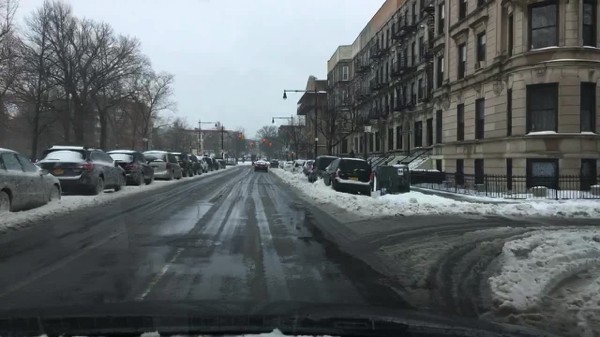car: (33, 146, 127, 193), (0, 148, 62, 214), (323, 158, 372, 197), (108, 149, 154, 186), (143, 149, 183, 179), (307, 156, 338, 182), (174, 153, 193, 176), (187, 155, 201, 175), (253, 158, 268, 172), (302, 159, 315, 175), (198, 156, 209, 173), (293, 157, 304, 173), (202, 157, 215, 170), (214, 158, 225, 169), (269, 159, 279, 170), (223, 159, 234, 167), (287, 160, 295, 168), (280, 161, 285, 168), (259, 156, 266, 161)
person: (240, 156, 245, 163), (235, 156, 237, 165)
traffic light: (286, 154, 292, 159), (262, 138, 265, 146), (250, 140, 253, 147), (237, 134, 240, 141), (269, 143, 272, 148)
truck: (250, 154, 256, 162)
